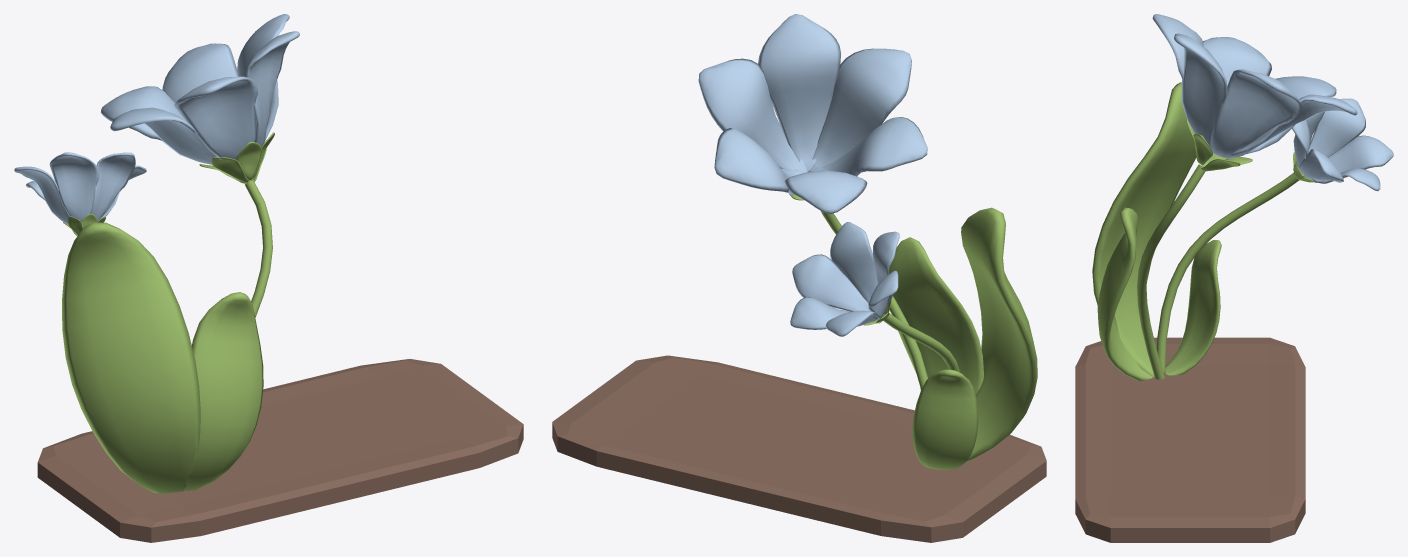
The model's file is function.fbx.
3 renders of one model, left to right at view 1: azimuth 30°, elevation 25°; view 2: azimuth 150°, elevation 25°; view 3: azimuth 270°, elevation 25°, orthographic. The views are drawn at different scales.
Parts seen in each view (by area): view 1: Sphere.027; view 2: Sphere.027; view 3: Sphere.027.
Part boxes in pixels (x1,y1,x2,y2): Sphere.027: [14, 14, 523, 542]; Sphere.027: [552, 14, 1046, 542]; Sphere.027: [1075, 14, 1393, 542].
Bounding box in the file's own units: 388 × 379 × 262.
